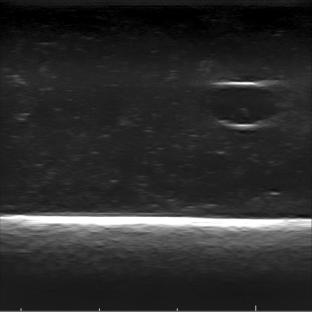vessel: (206, 80, 281, 130)
